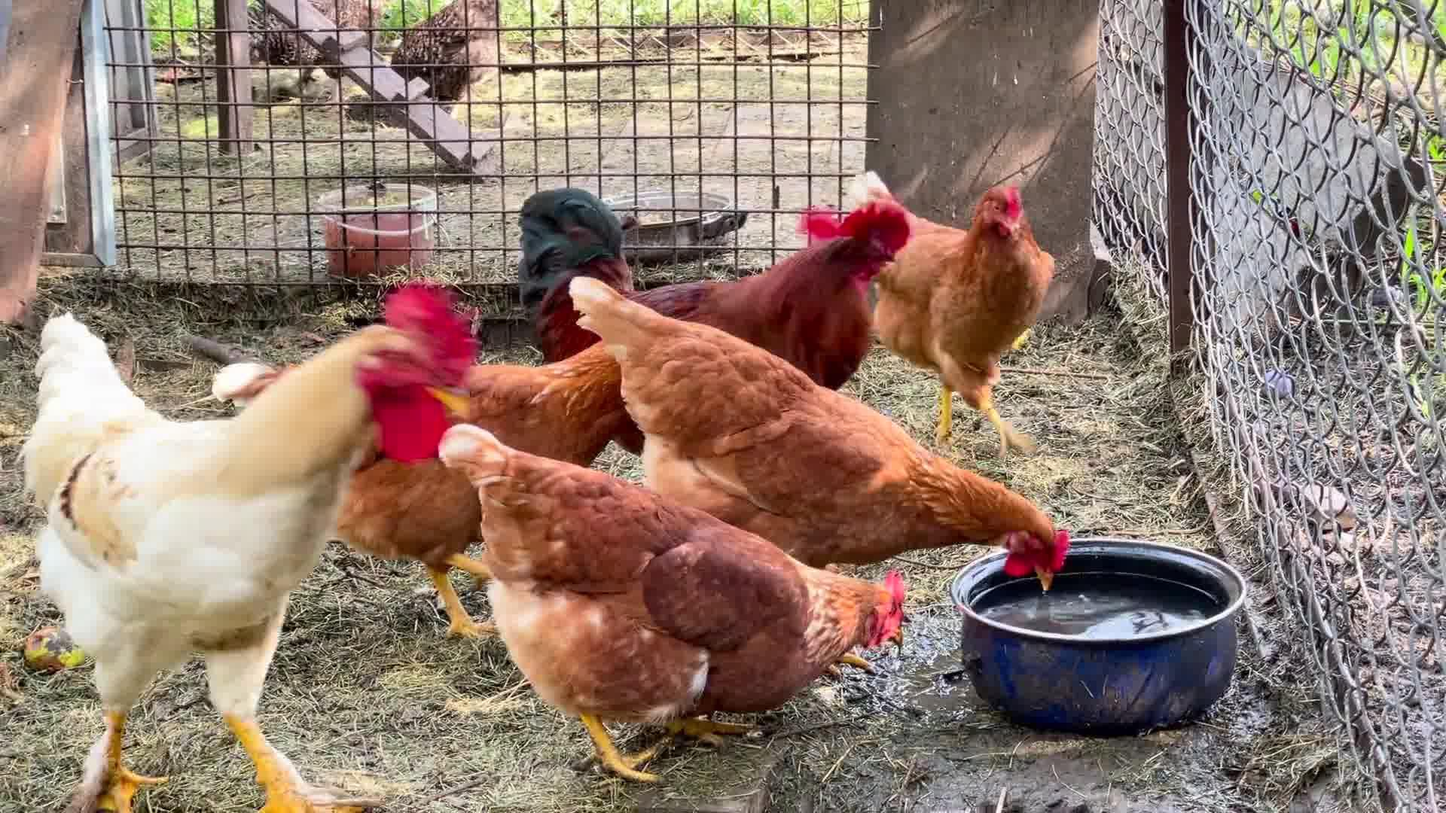Normal: (27, 279, 472, 813), (441, 431, 908, 785), (577, 279, 1070, 601), (362, 269, 632, 640), (522, 189, 920, 434), (831, 185, 1061, 449)
